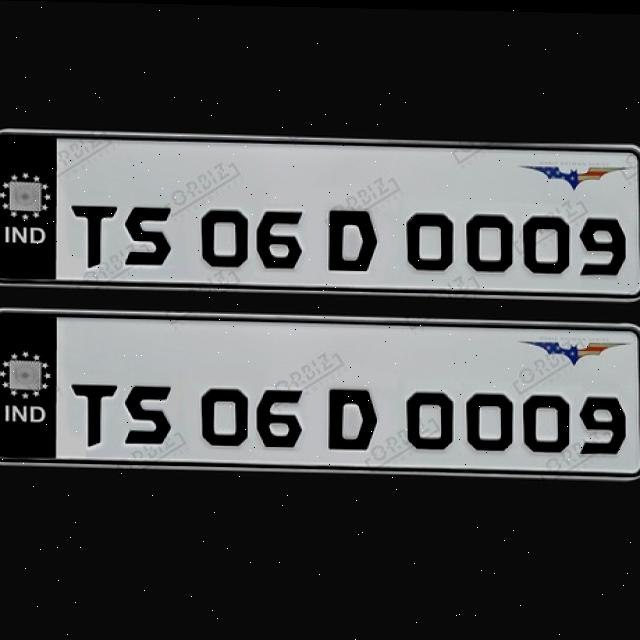plate: (0, 305, 640, 485), (0, 124, 640, 302)
